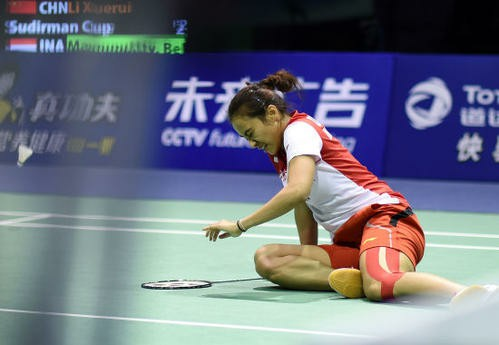fall: (198, 63, 499, 320)
